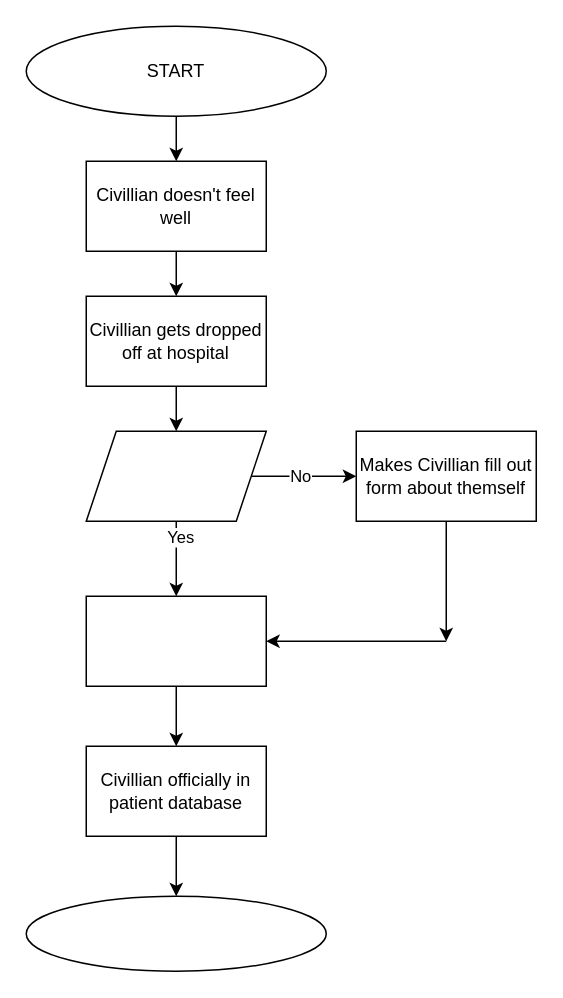
This 563x998 diagram has some shape labels left out. The shapes that lost their labels are listed below. From the top down, each one's centre as x and y in pixels, then its label:
At (175,475): "Receptionist checks if Civillian is in database".
At (175,640): "Admits symptoms and keeps Civillian in a room".
At (175,933): "END".
